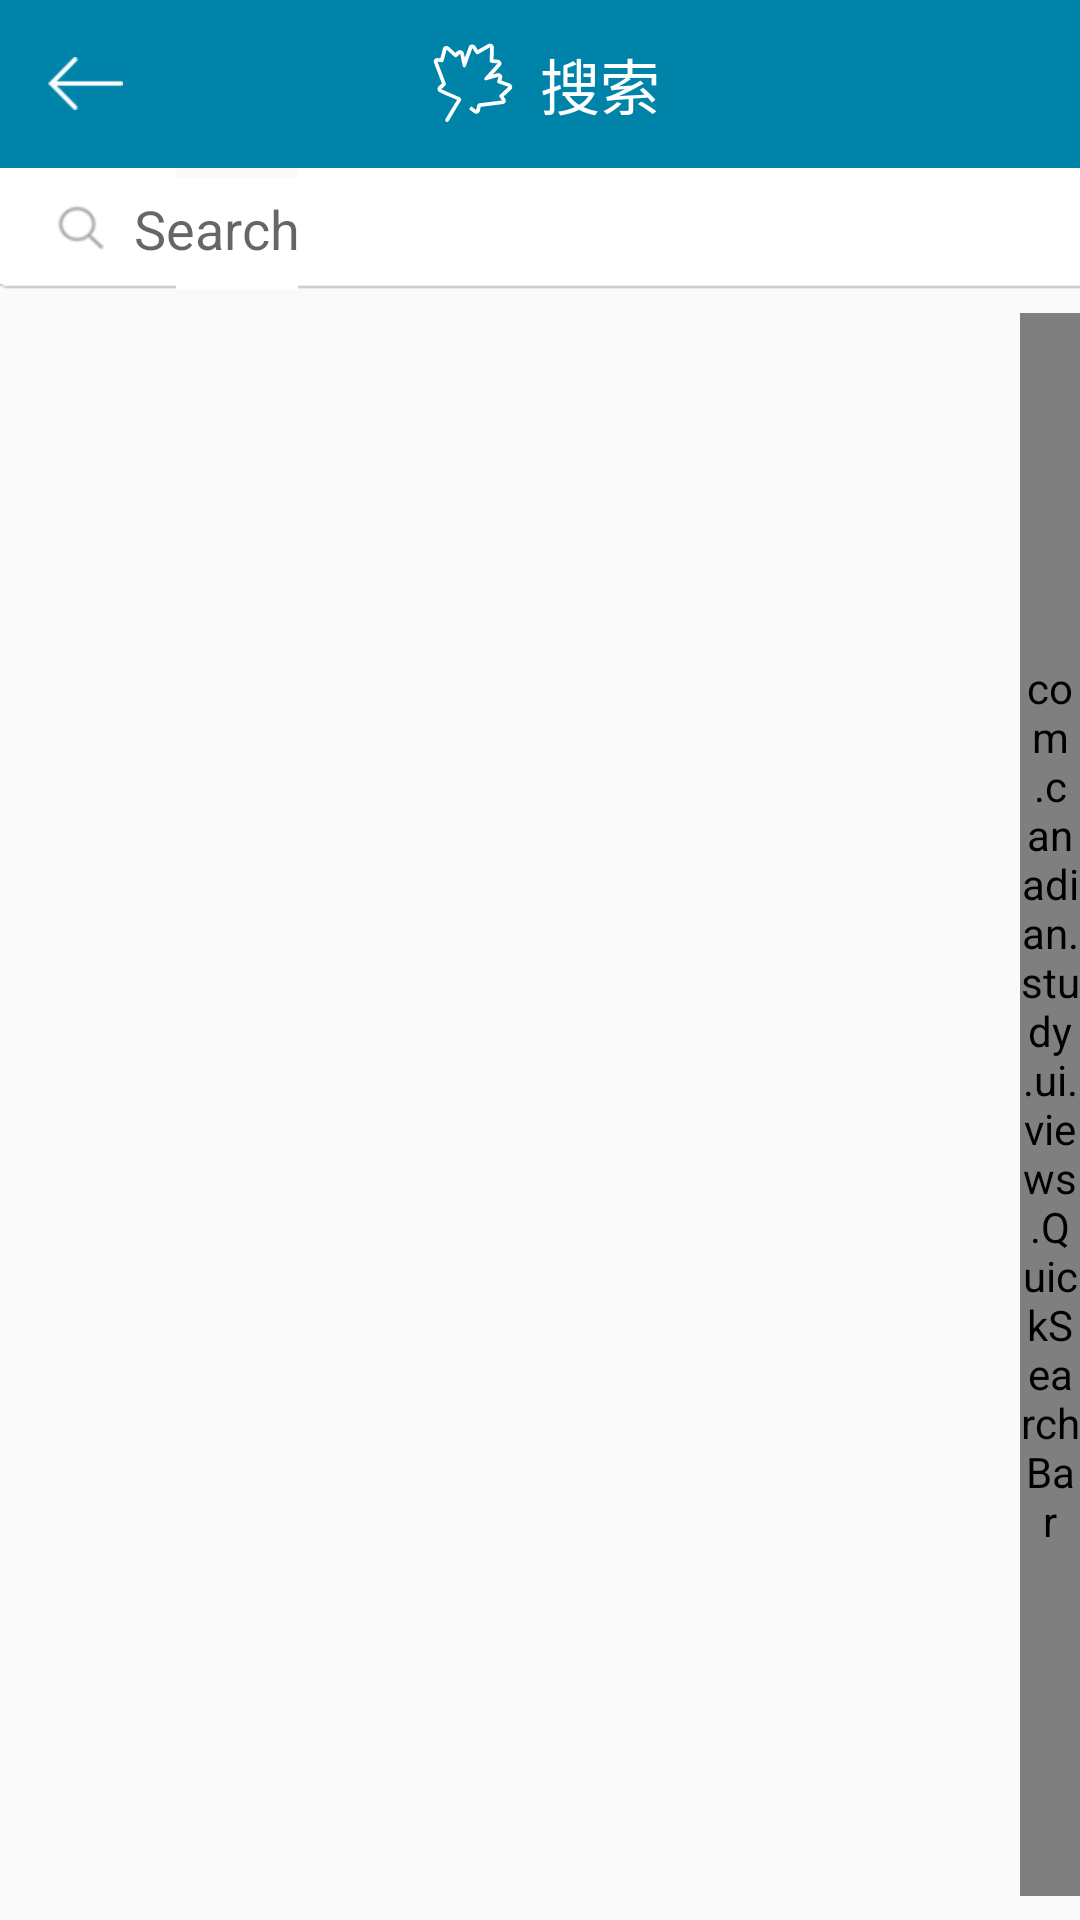

Icon click points for this 1080 x 1920 phone screenshot, format point (x, y):
back: point (85, 83)
leaf: point (473, 82)
